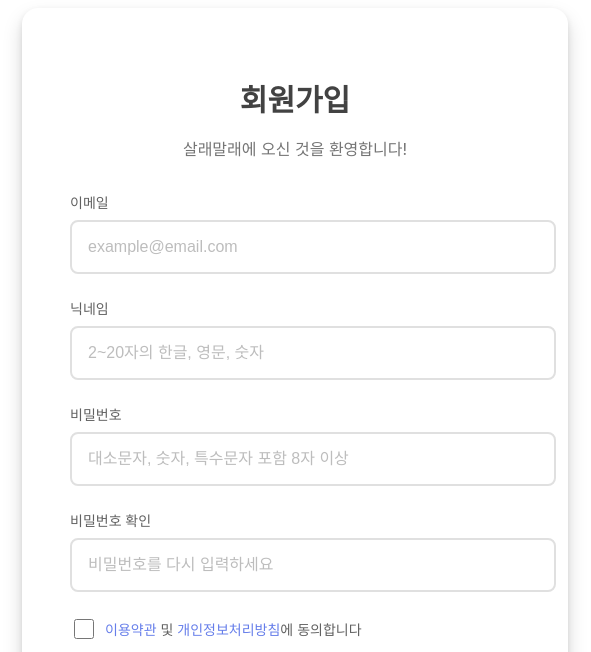
it: Validation Message Display › RegisterForm › 닉네임 형식이 잘못되었을 때 에러를 표시해야 함
Username with special characters
Type "user@name" into the field labelled "닉네임". click: (313, 353)
box: [70, 326, 556, 380]
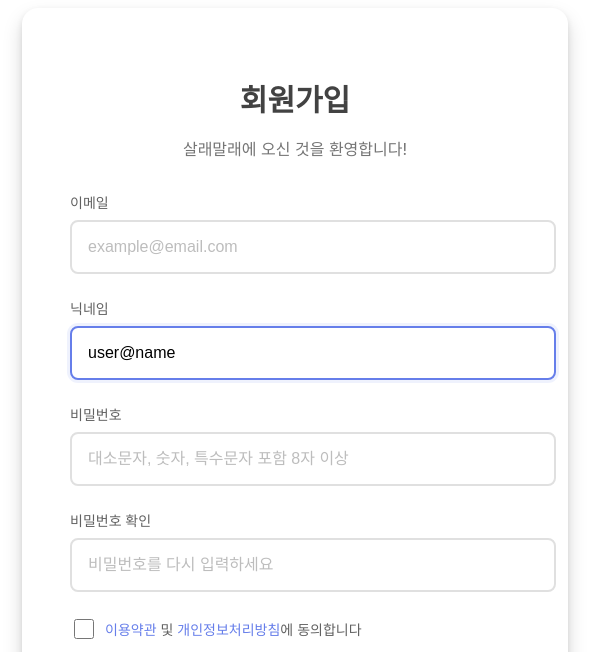
Leave the field labelled "닉네임", box [70, 326, 556, 380]
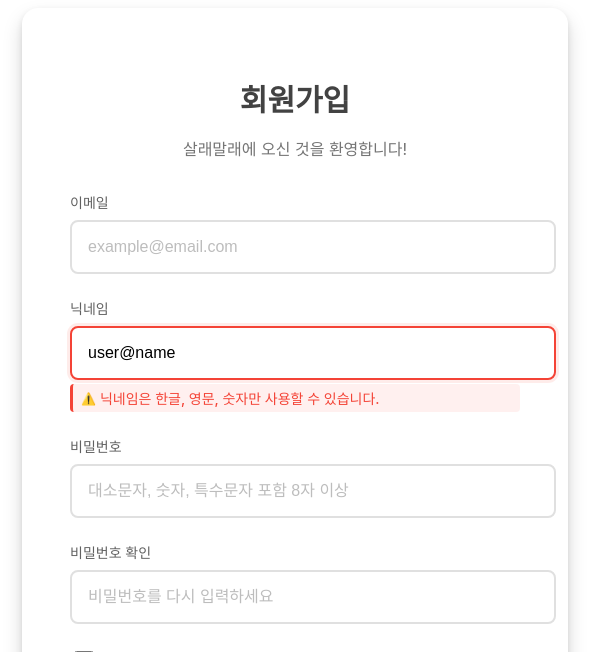
Expected: the message reads "닉네임은 한글, 영문, 숫자만 사용할 수 있습니다.", [100, 390, 380, 407]
